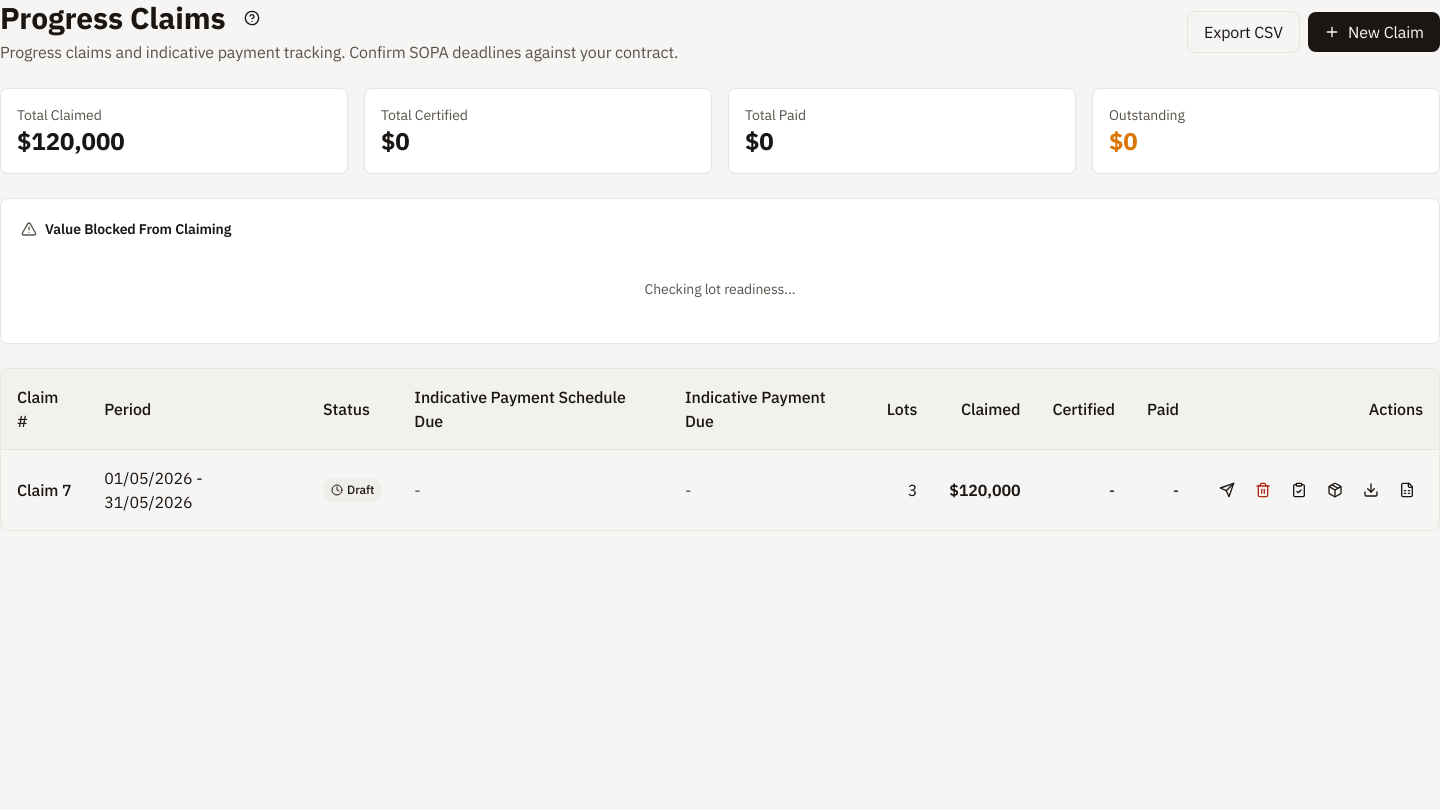
ClaimsPage TanStack Query register › deletes a draft claim and releases related register caches
Expected: the link "Claim 7" is shown, 17,480 -> 72,500
Click the button named "Delete Draft Claim".
click(1263, 490)  # box 1247,474 -> 1279,506
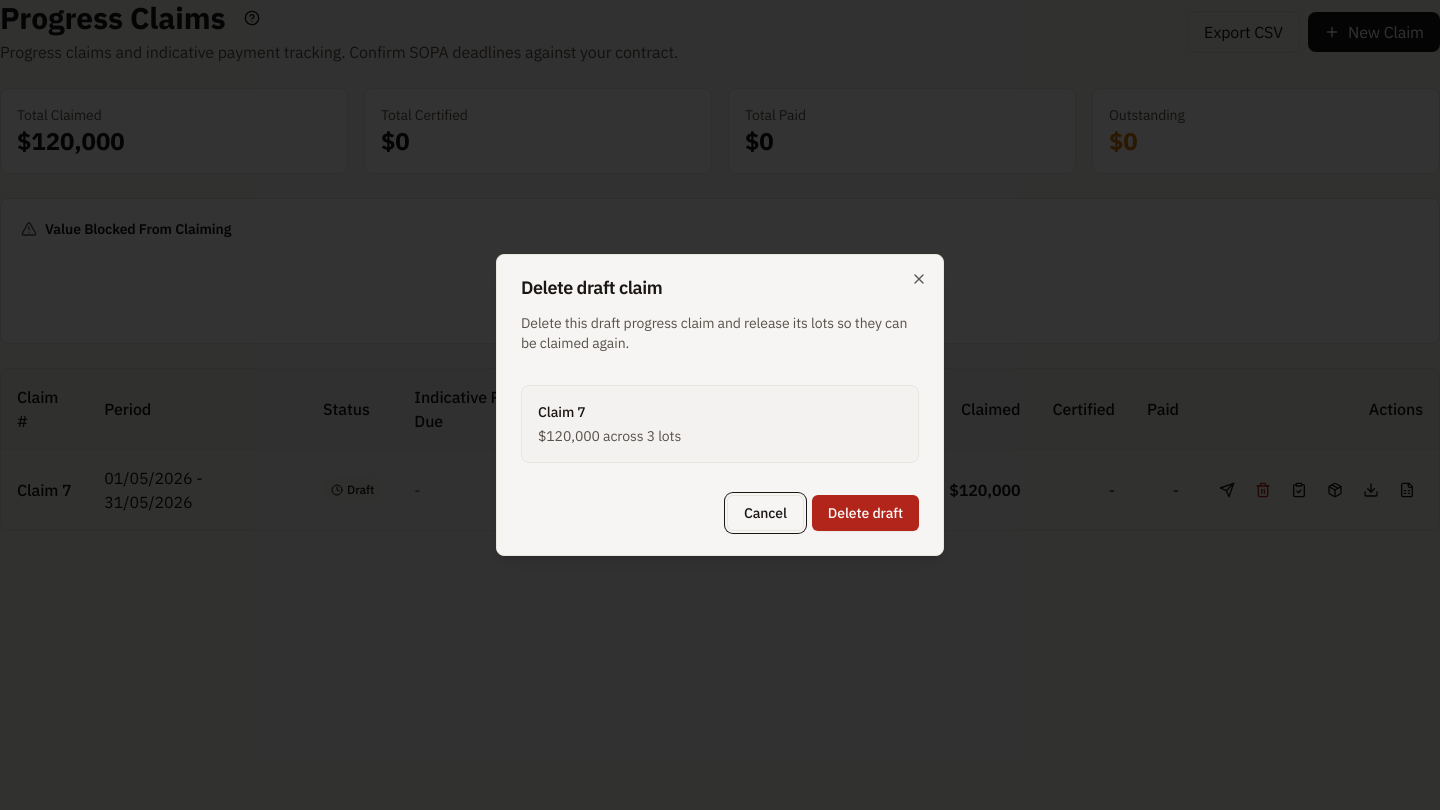
Click the button "Delete draft".
click(865, 513)  # box 812,495 -> 919,531
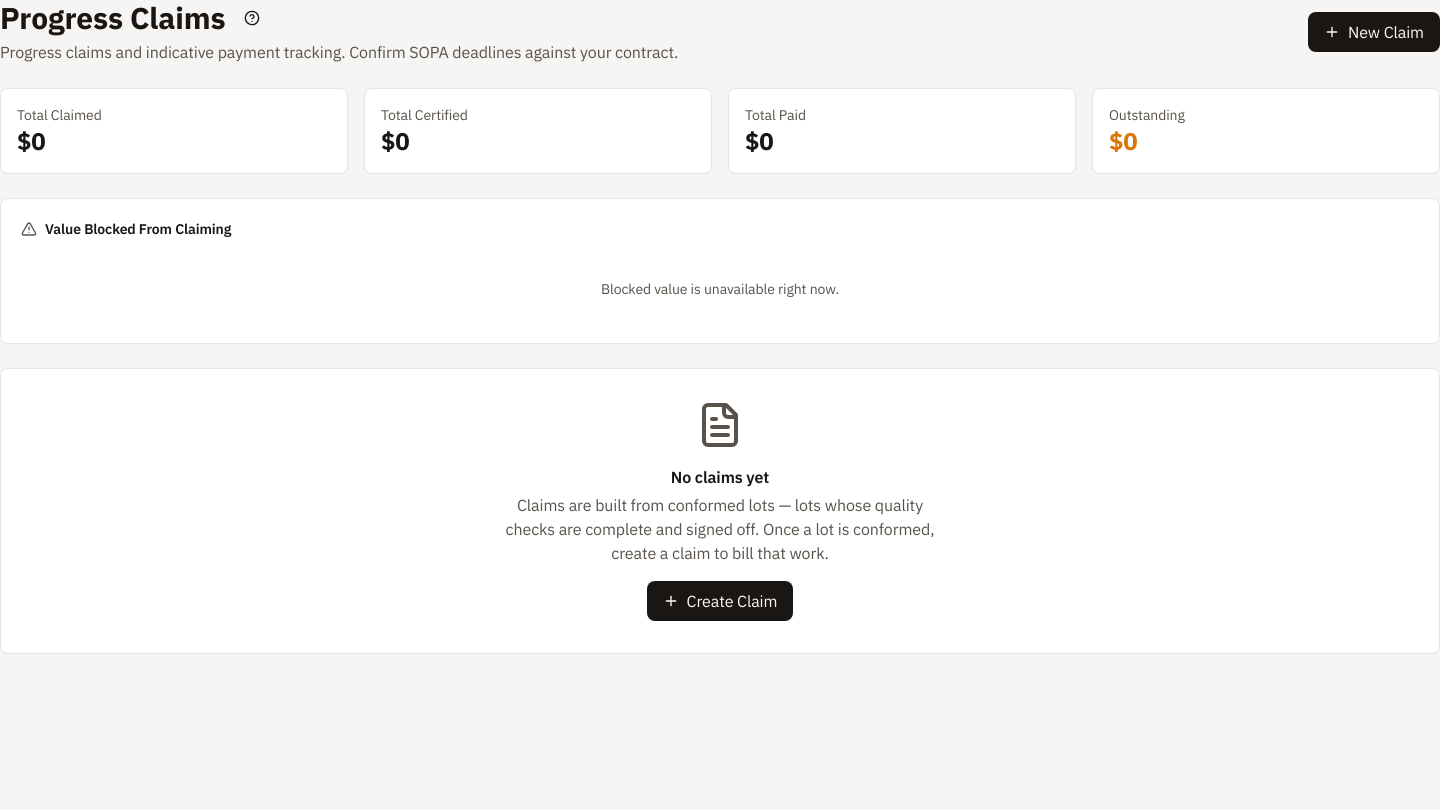
Expected: the heading "No claims yet" is shown, 671,467 -> 769,487
